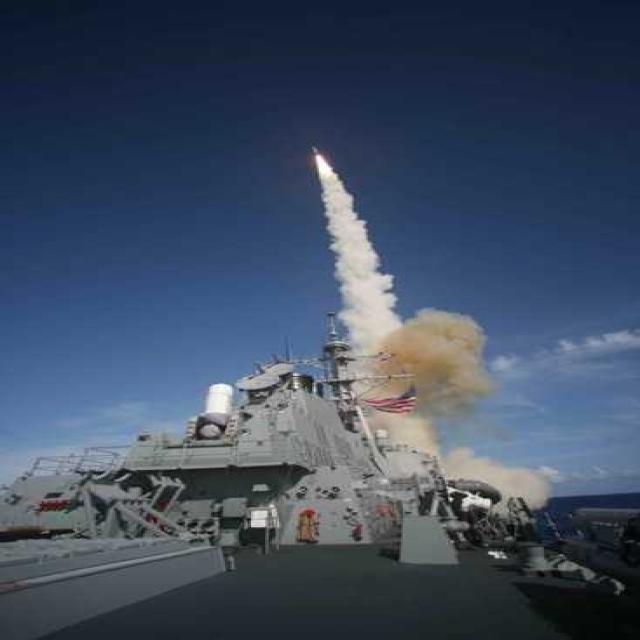missile: (308, 143, 322, 155)
